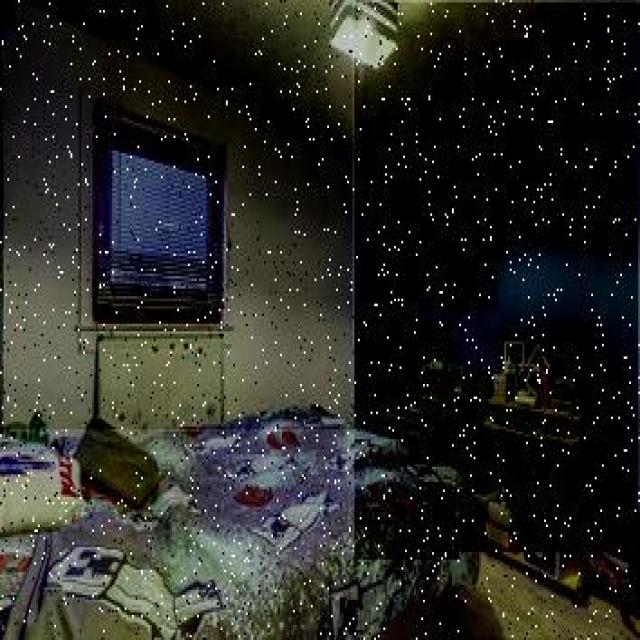Wall: (355, 5, 640, 560), (3, 2, 353, 429), (28, 0, 640, 156), (461, 553, 633, 637)
